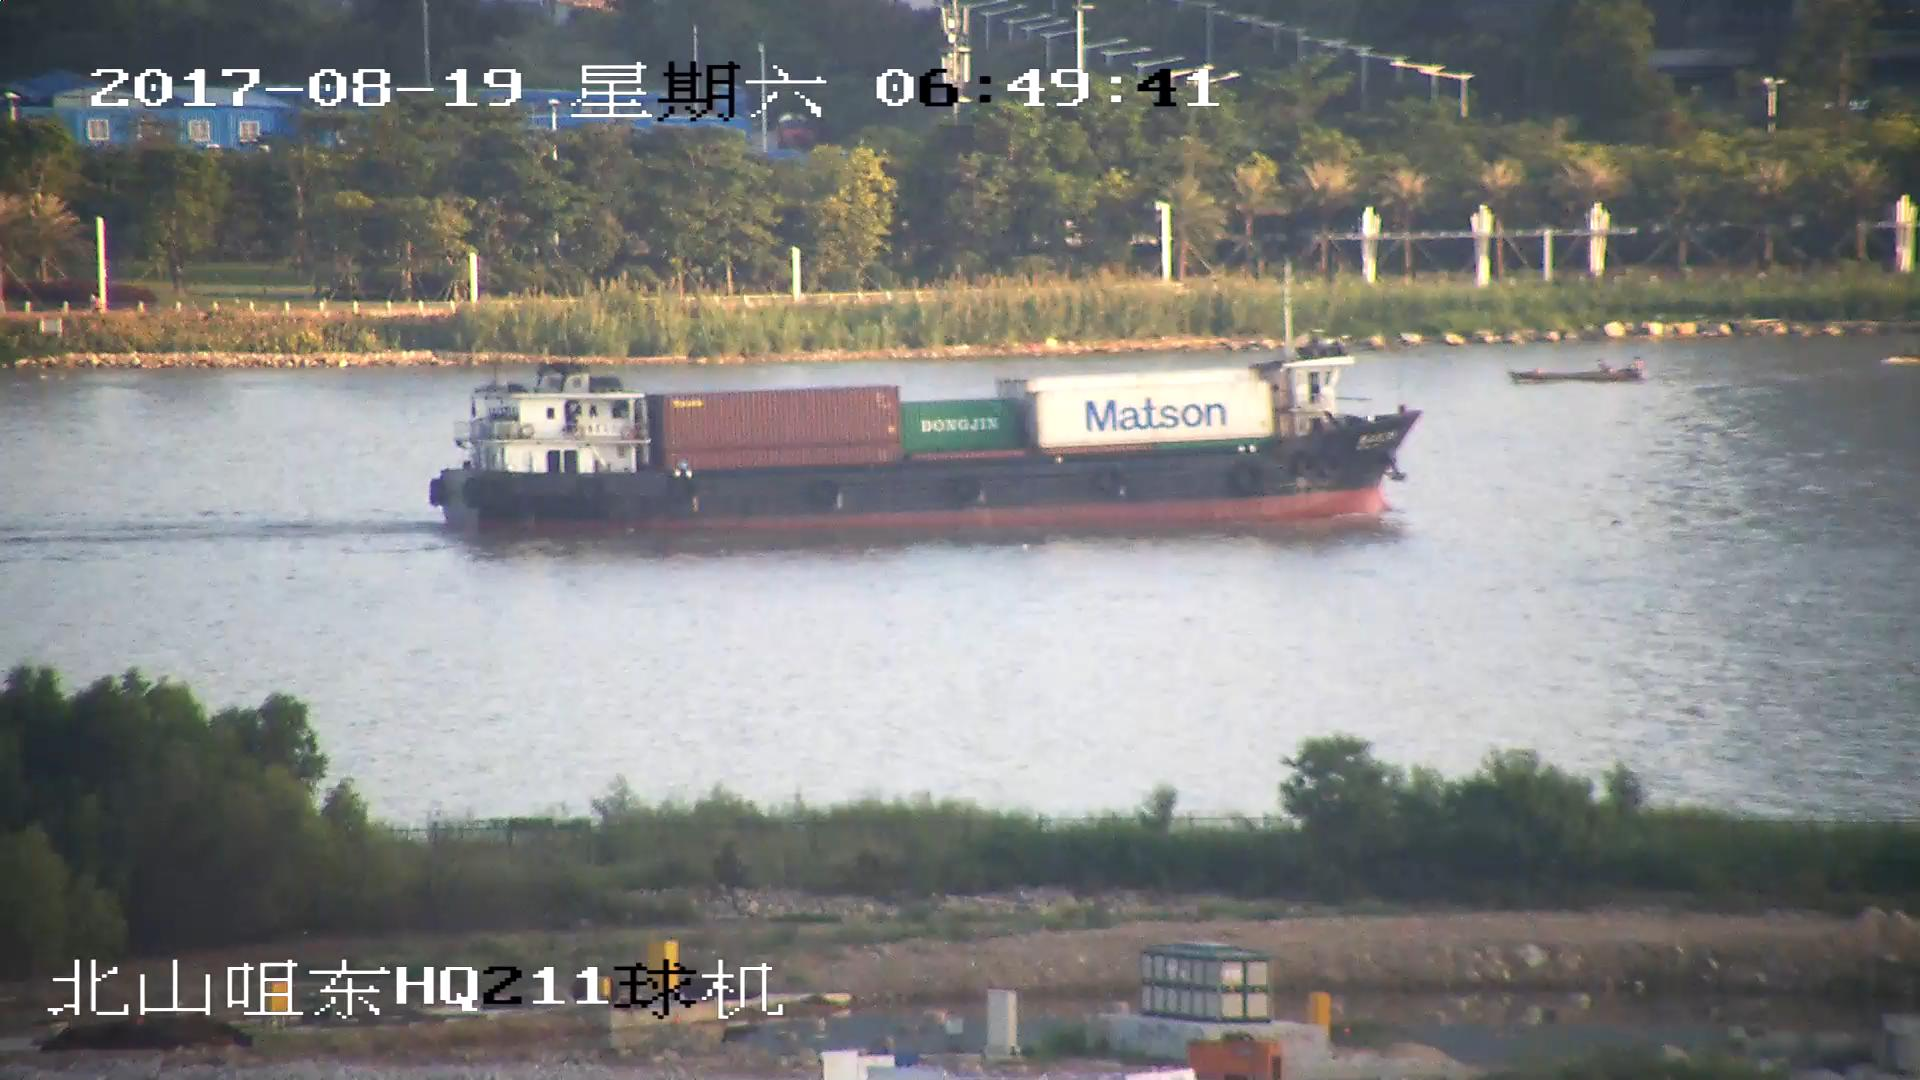container ship: (427, 277, 1431, 543)
fishing boat: (1507, 358, 1650, 386)
